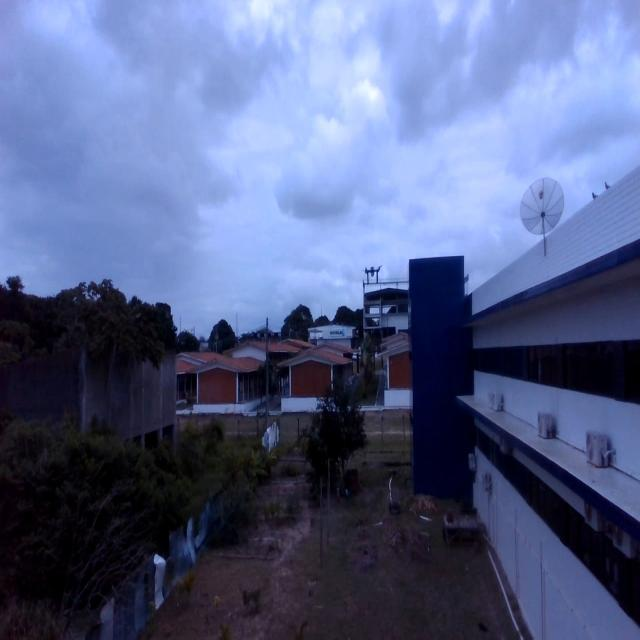-uav-: (358, 261, 392, 287)
